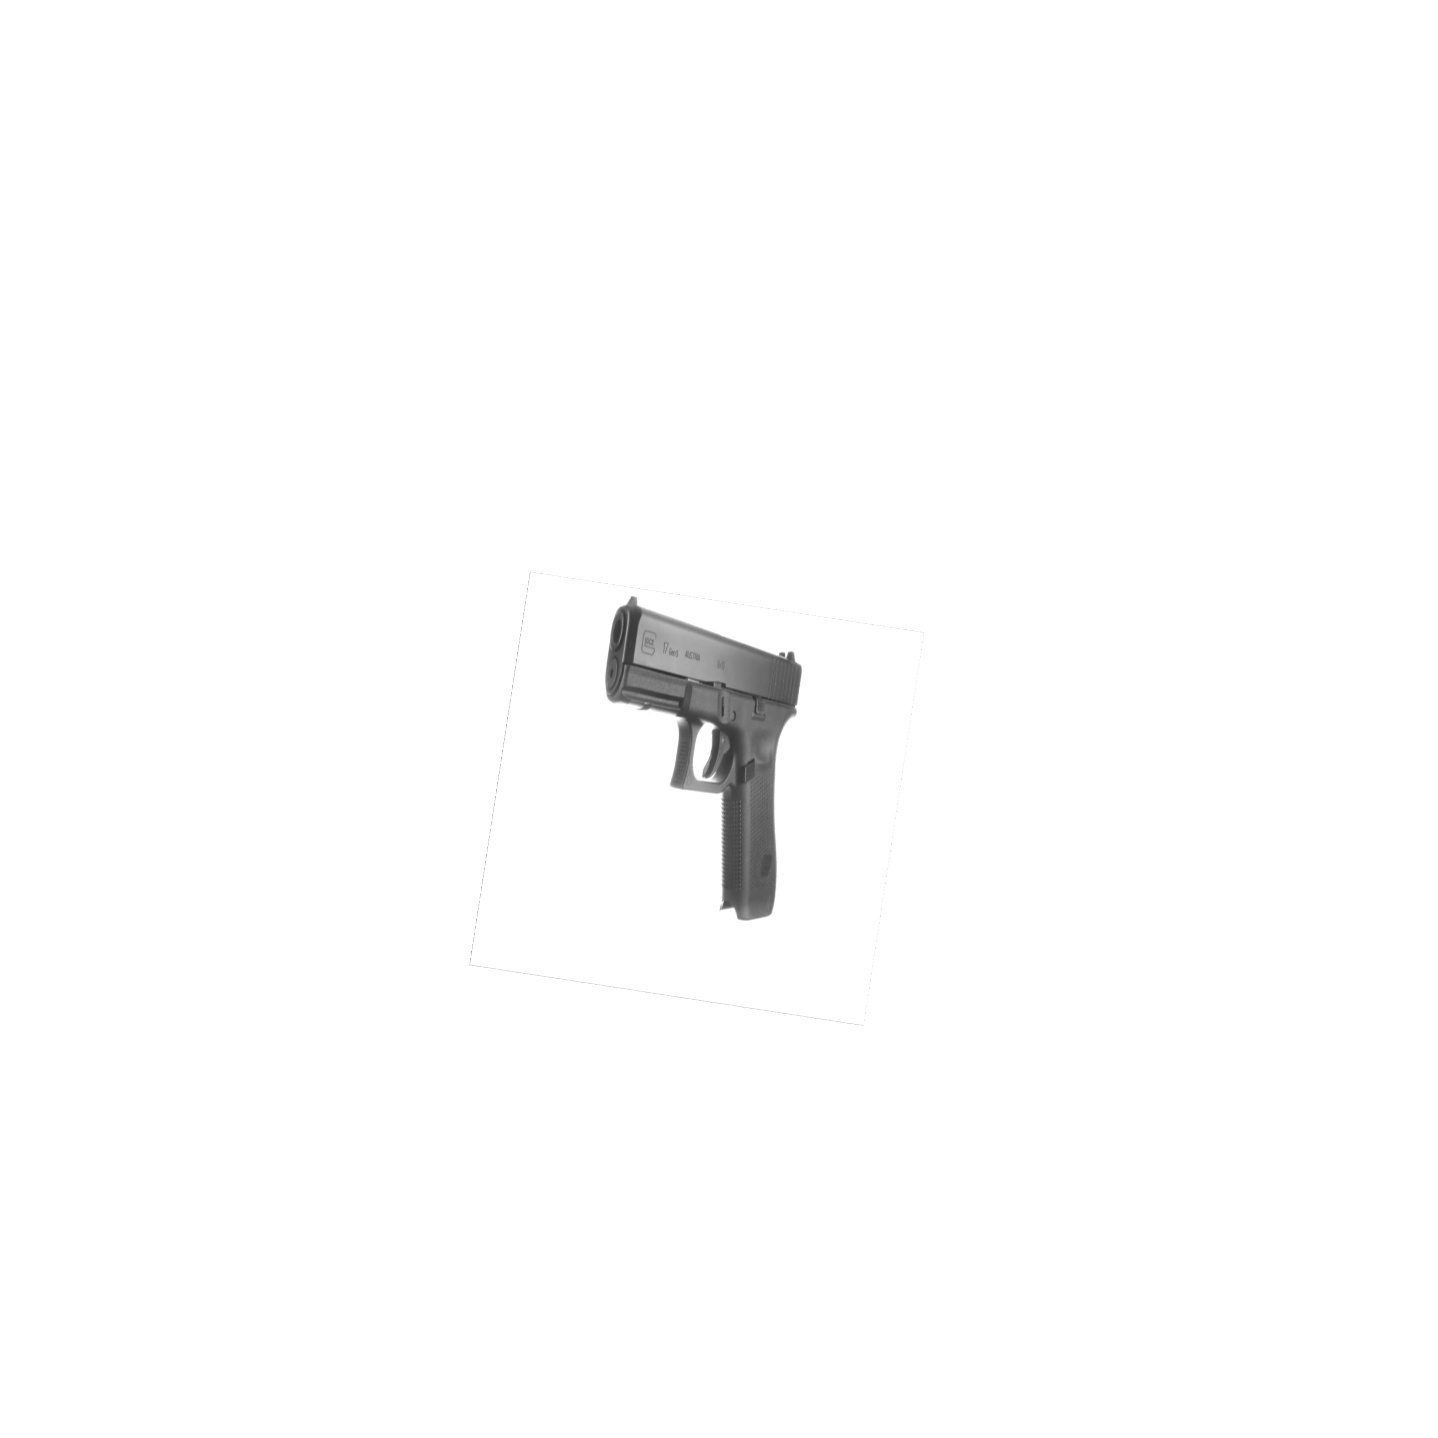gun: (591, 586, 809, 936)
